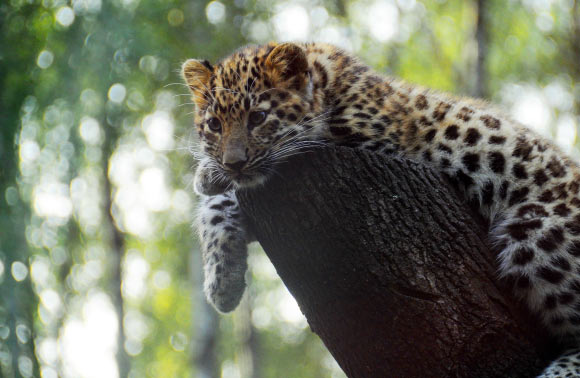amur_leopard: (168, 22, 539, 186)
